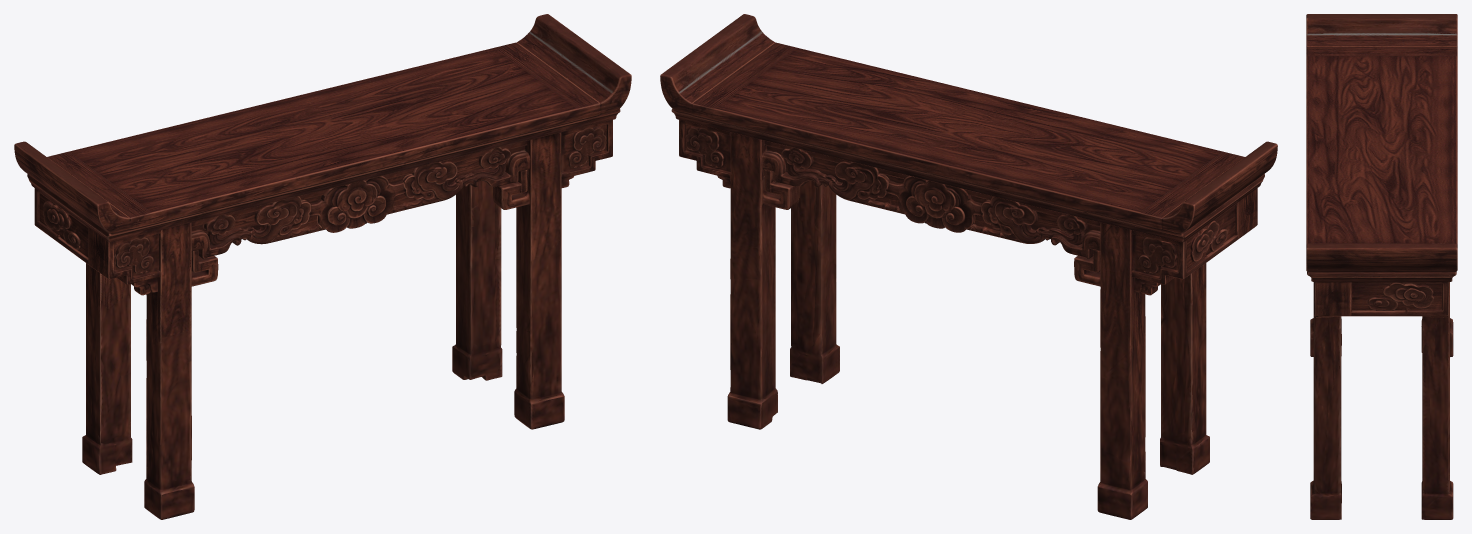
The model's file is traditional_chinese_altar_table.glb.
3 renders of one model, left to right at view 1: azimuth 30°, elevation 25°; view 2: azimuth 150°, elevation 25°; view 3: azimuth 270°, elevation 25°, orthographic. The views are drawn at different scales.
Visible parts, largest first — view 1: Object_6, Object_5, Object_7, Object_4; view 2: Object_6, Object_5, Object_7, Object_4; view 3: Object_5, Object_6, Object_7, Object_4.
Part boxes in pixels (box(x1,y1,x2,y2)): Object_6: box(14, 113, 350, 519); Object_5: box(27, 14, 631, 519); Object_7: box(141, 62, 548, 280); Object_4: box(288, 118, 611, 232); Object_6: box(947, 105, 1277, 519); Object_5: box(660, 14, 1221, 429); Object_7: box(765, 61, 1159, 274); Object_4: box(683, 121, 1000, 422); Object_5: box(1306, 122, 1457, 519); Object_6: box(1306, 14, 1457, 356); Object_7: box(1306, 71, 1457, 348); Object_4: box(1313, 279, 1453, 519).
Bounding box in the file's own units: 1.43 × 0.85 × 0.3885.
Materials: 1 (1 with a texture image).
